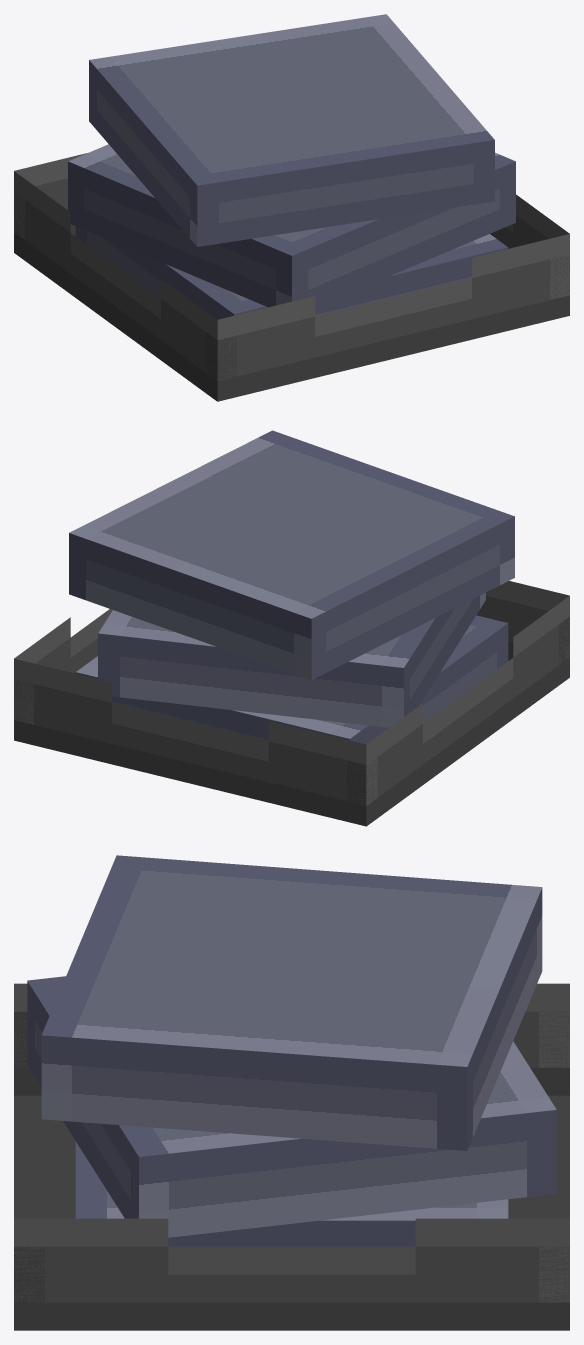
The model's file is TrayIron.fbx.
3 views of the same model, one above another, from view 1: azimuth 30°, elevation 25°; view 2: azimuth 150°, elevation 25°; view 3: azimuth 270°, elevation 25° (orthographic). The views are drawn at different scales.
Parts seen in each view (by area): view 1: cube_178, cube_177, cube_172, cube_174, cube_176, cube_173, cube_171; view 2: cube_178, cube_171, cube_177, cube_174, cube_176, cube_172, cube_173; view 3: cube_178, cube_173, cube_177, cube_175, cube_176, cube_174.
Boxes of the visible parts, x1=… form: cube_178: x1=89, y1=14, x2=494, y2=246; cube_177: x1=68, y1=144, x2=515, y2=307; cube_172: x1=217, y1=234, x2=569, y2=401; cube_174: x1=14, y1=171, x2=217, y2=401; cube_176: x1=75, y1=226, x2=508, y2=319; cube_173: x1=490, y1=194, x2=569, y2=248; cube_171: x1=14, y1=153, x2=87, y2=235; cube_178: x1=69, y1=430, x2=514, y2=680; cube_171: x1=14, y1=658, x2=366, y2=826; cube_177: x1=98, y1=592, x2=485, y2=727; cube_174: x1=366, y1=596, x2=569, y2=826; cube_176: x1=75, y1=615, x2=508, y2=744; cube_172: x1=476, y1=581, x2=569, y2=660; cube_173: x1=14, y1=609, x2=112, y2=673; cube_178: x1=41, y1=855, x2=542, y2=1150; cube_173: x1=14, y1=1218, x2=569, y2=1330; cube_177: x1=27, y1=976, x2=556, y2=1237; cube_175: x1=14, y1=1095, x2=569, y2=1218; cube_176: x1=75, y1=1141, x2=508, y2=1246; cube_174: x1=14, y1=983, x2=569, y2=1095.
Size of the model in its own units: 112 by 56.25 by 113.
